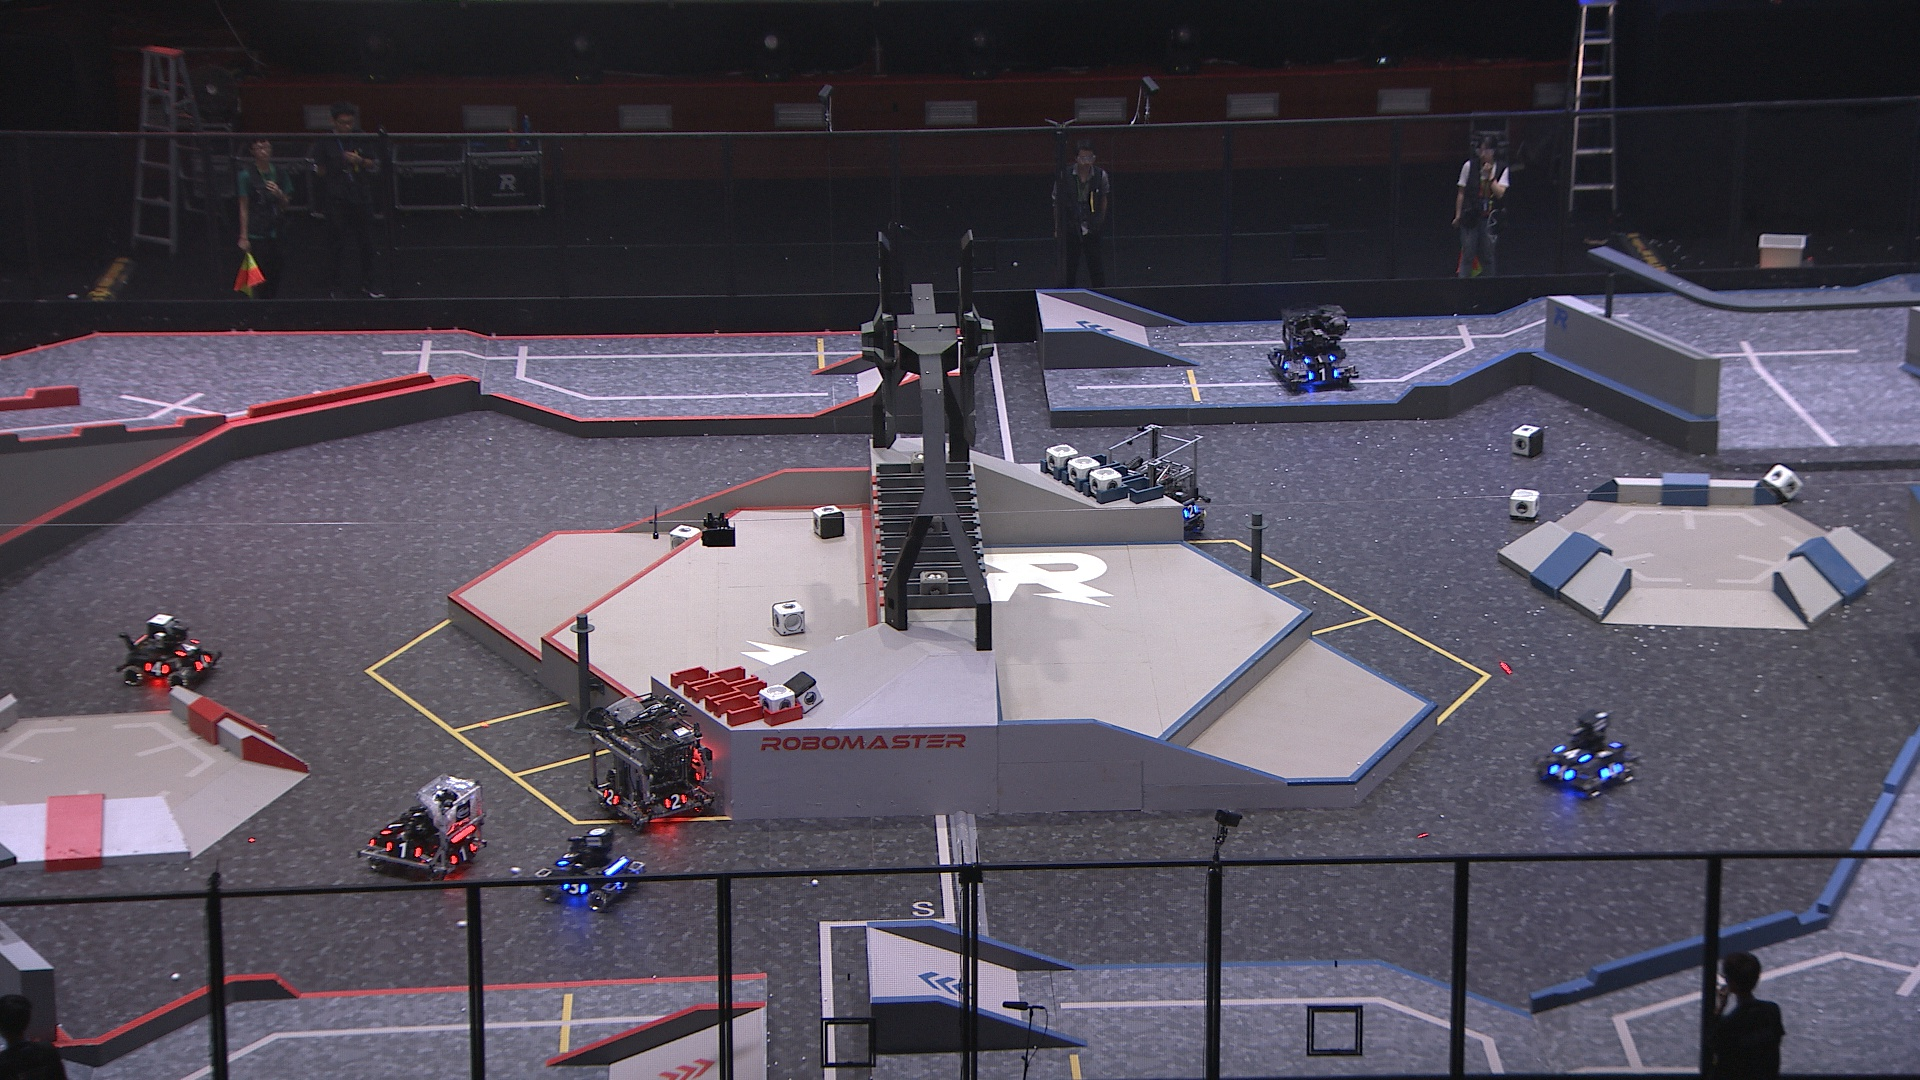armor: (385, 839, 419, 858), (1555, 745, 1590, 764), (448, 843, 479, 864), (173, 637, 204, 655), (141, 659, 173, 678), (1547, 764, 1577, 782), (1300, 352, 1338, 367), (661, 793, 688, 812), (1305, 368, 1338, 384), (1598, 764, 1623, 782), (560, 882, 589, 897), (376, 820, 404, 835), (553, 851, 576, 866), (193, 654, 212, 673), (1183, 502, 1201, 522), (600, 787, 618, 806), (1276, 353, 1290, 371)
car: (585, 694, 719, 827), (357, 775, 487, 884), (1106, 425, 1211, 541), (531, 828, 647, 913), (1536, 709, 1636, 798), (115, 615, 225, 688), (1269, 305, 1358, 392)
